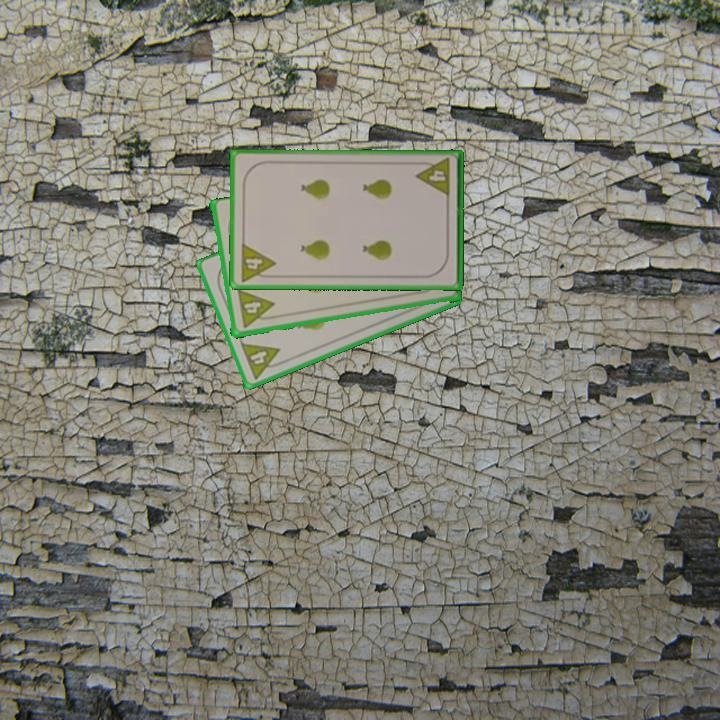4p: (237, 340, 287, 382), (234, 287, 278, 331), (237, 240, 278, 284), (413, 155, 453, 199)
